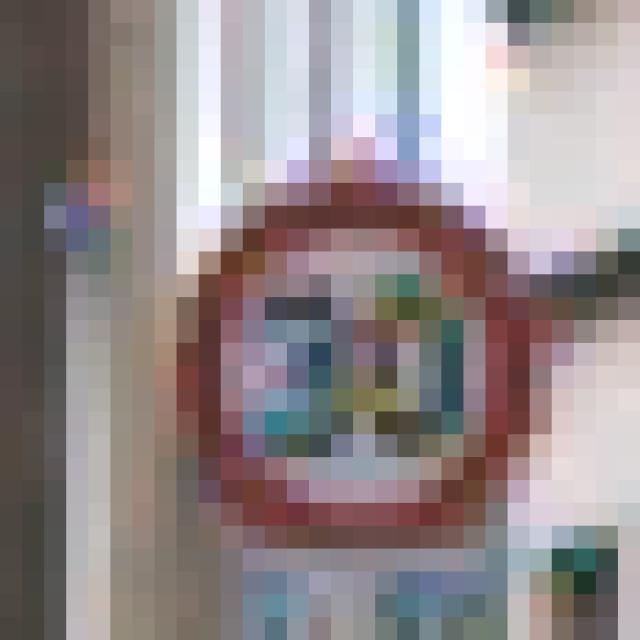Speed Limit -30-: (121, 102, 496, 514)
